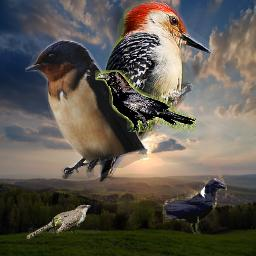Crow: (95, 70, 196, 132), (163, 177, 227, 234)
Cuckoo: (26, 204, 91, 239)
Swallow: (25, 39, 147, 179)
Woodpecker: (100, 1, 216, 182)
